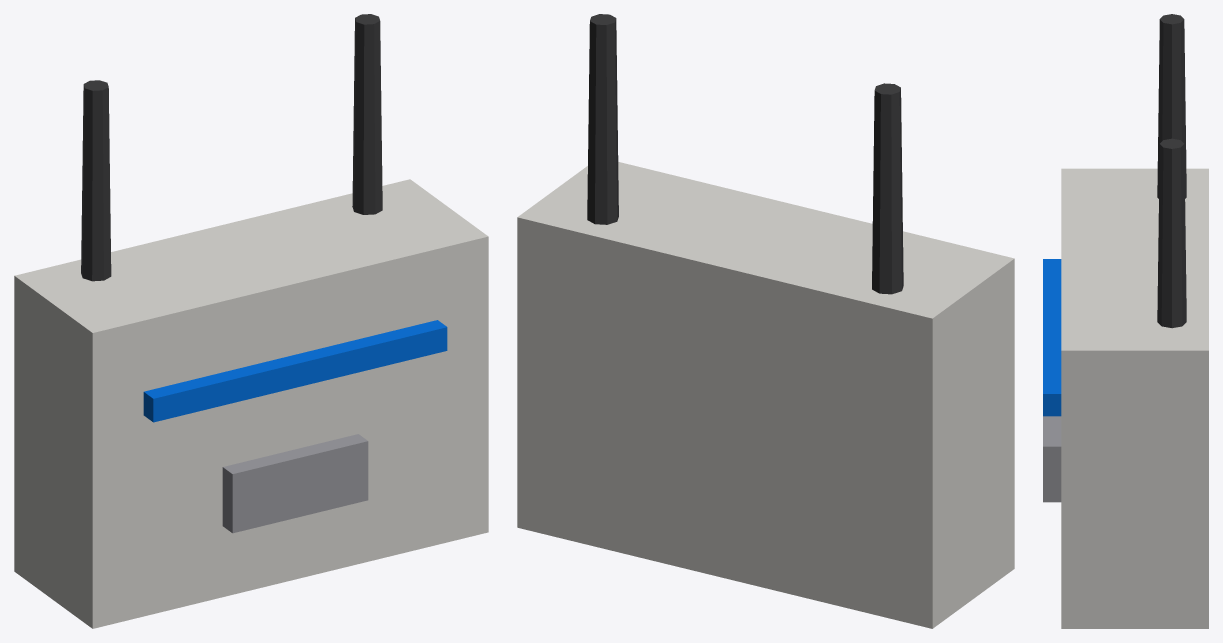
The model's file is onu.glb.
3 renders of one model, left to right at view 1: azimuth 30°, elevation 25°; view 2: azimuth 150°, elevation 25°; view 3: azimuth 270°, elevation 25°, orthographic. The views are drawn at different scales.
Visible parts, largest first — view 1: body, leds, label, aerial_1, aerial_0; view 2: body, aerial_1, aerial_0; view 3: body, aerial_1, aerial_0, leds, label.
Boxes of the visible parts, x1,y1,x2,y2 form: body: [14, 179, 488, 628]; leds: [143, 320, 447, 422]; label: [222, 434, 368, 533]; aerial_1: [352, 14, 382, 214]; aerial_0: [81, 80, 111, 281]; body: [517, 162, 1014, 628]; aerial_1: [587, 14, 618, 224]; aerial_0: [872, 83, 903, 294]; body: [1061, 168, 1208, 628]; aerial_1: [1157, 138, 1186, 328]; aerial_0: [1157, 14, 1186, 198]; leds: [1043, 259, 1061, 416]; label: [1043, 416, 1061, 502].
Size of the model in its own units: 0.35 by 0.41 by 0.135.
